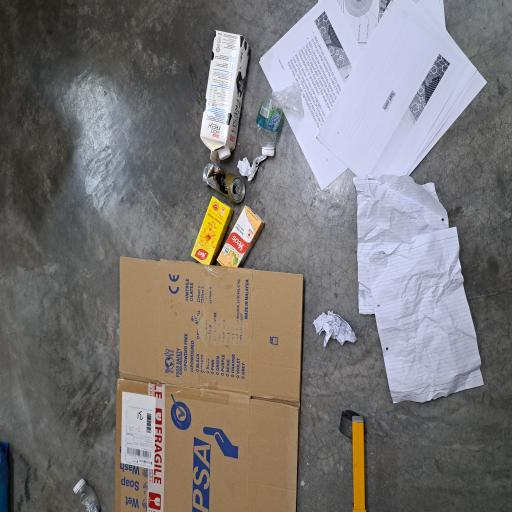can: (233, 270, 262, 326)
cardboard: (0, 153, 192, 406)
drink carton: (262, 266, 362, 334), (186, 254, 238, 312), (183, 289, 230, 353)
paper: (242, 345, 384, 512), (82, 477, 253, 512), (124, 418, 152, 473), (248, 316, 268, 355)
plastic bottle: (266, 342, 322, 404), (0, 96, 25, 134)
plastic bottle cap: (14, 96, 25, 115), (264, 290, 275, 307), (267, 347, 276, 367)
pop tab: (237, 314, 245, 326)
